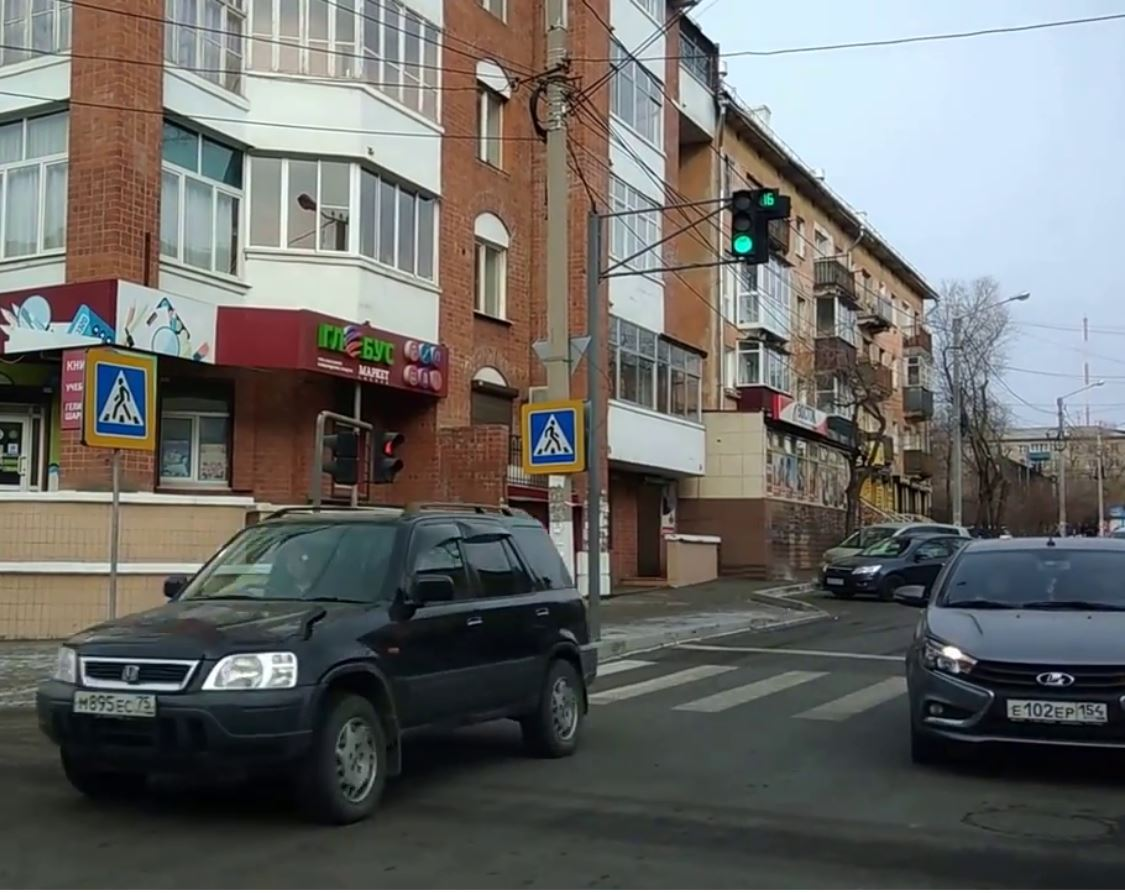Yaya Gecidi: (100, 366, 146, 432), (530, 412, 577, 465)
